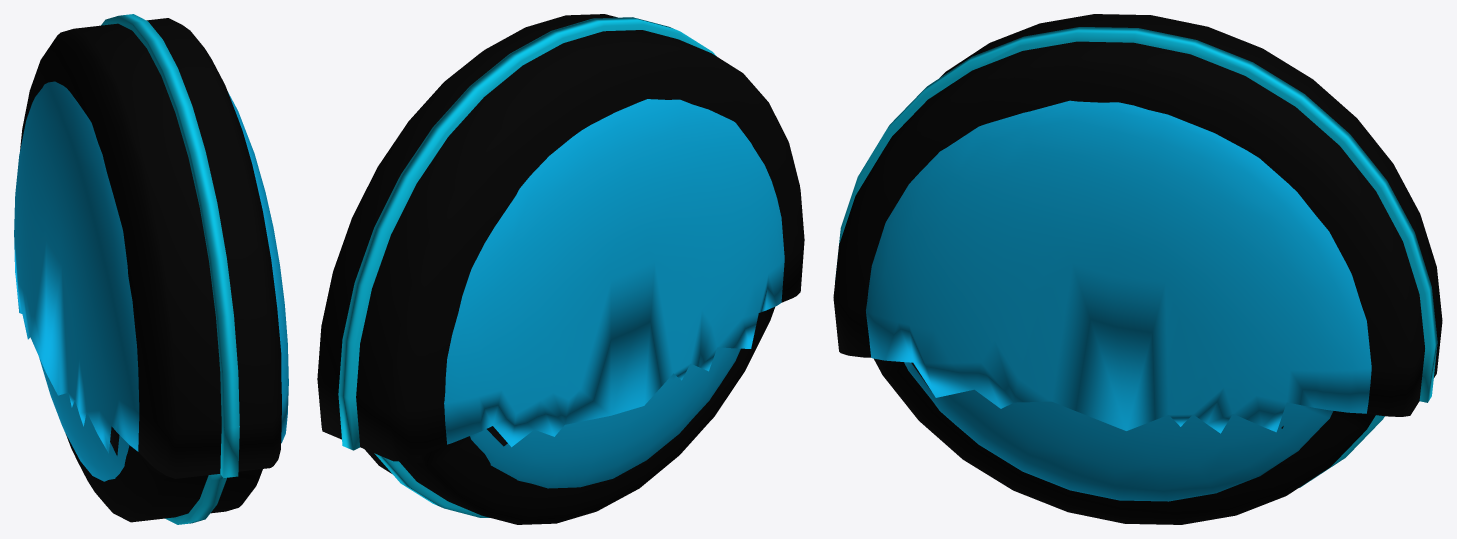
Rendered from mousescroll-BGgyp0el.glb.
The picture shows the model from 3 angles, left to right: view 1: azimuth 30°, elevation 25°; view 2: azimuth 150°, elevation 25°; view 3: azimuth 270°, elevation 25°; orthographic projection. The views are drawn at different scales.
Parts seen in each view (by area): view 1: StudyShelf_1313; view 2: StudyShelf_1313; view 3: StudyShelf_1313.
Part boxes in pixels (box(x1,y1,x2,y2)): StudyShelf_1313: box(14, 14, 288, 524); StudyShelf_1313: box(317, 14, 804, 524); StudyShelf_1313: box(833, 14, 1442, 524).
Bounding box in the file's own units: 2.73 × 5.05 × 5.79.
